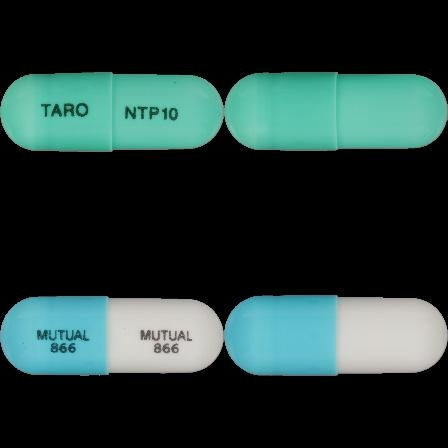63187-715: (0, 0, 224, 224)
